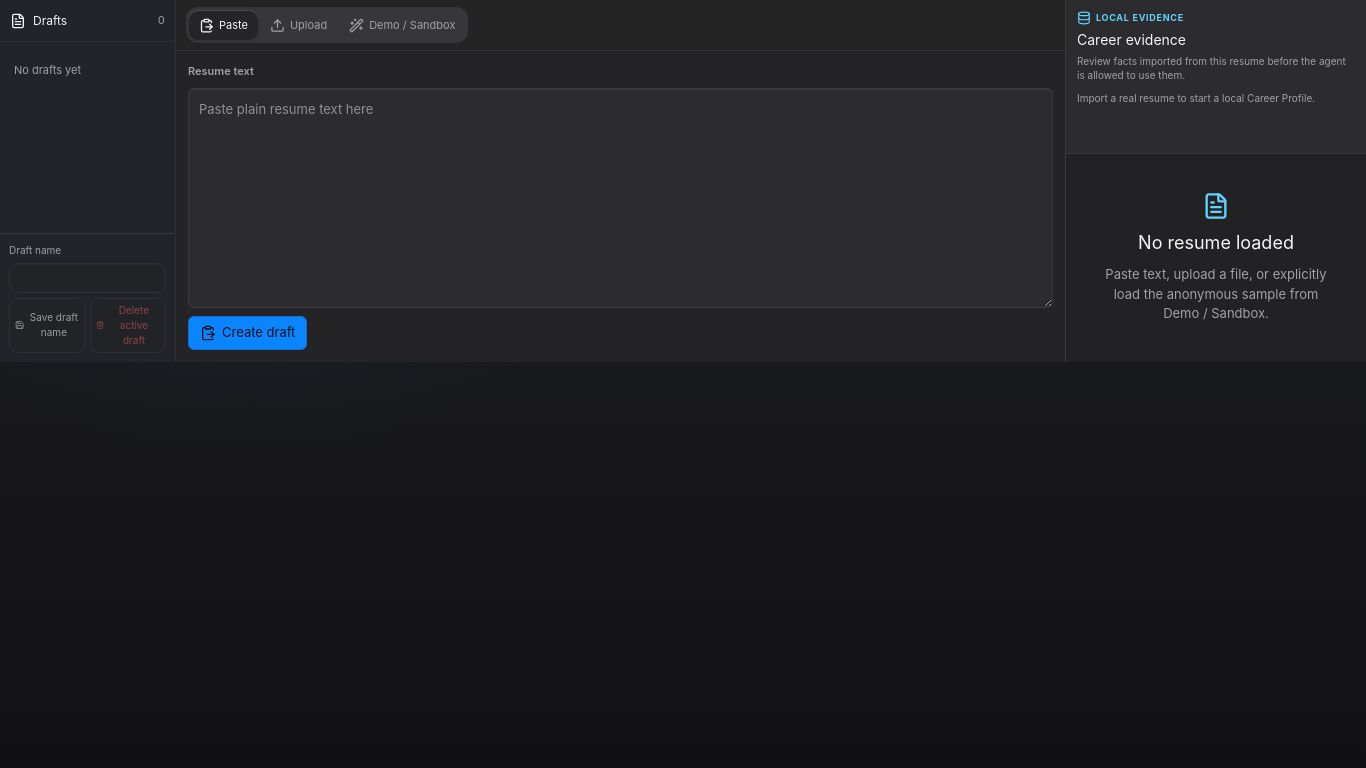
ResumeStudioApp › creates a draft from pasted text and renders a structured preview
This screenshot has width=1366, height=768.
Type "Ada resume source" into the text box labelled "Resume text" at {"x": 620, "y": 198}, box top-left (188, 88), bottom-right (1053, 308)
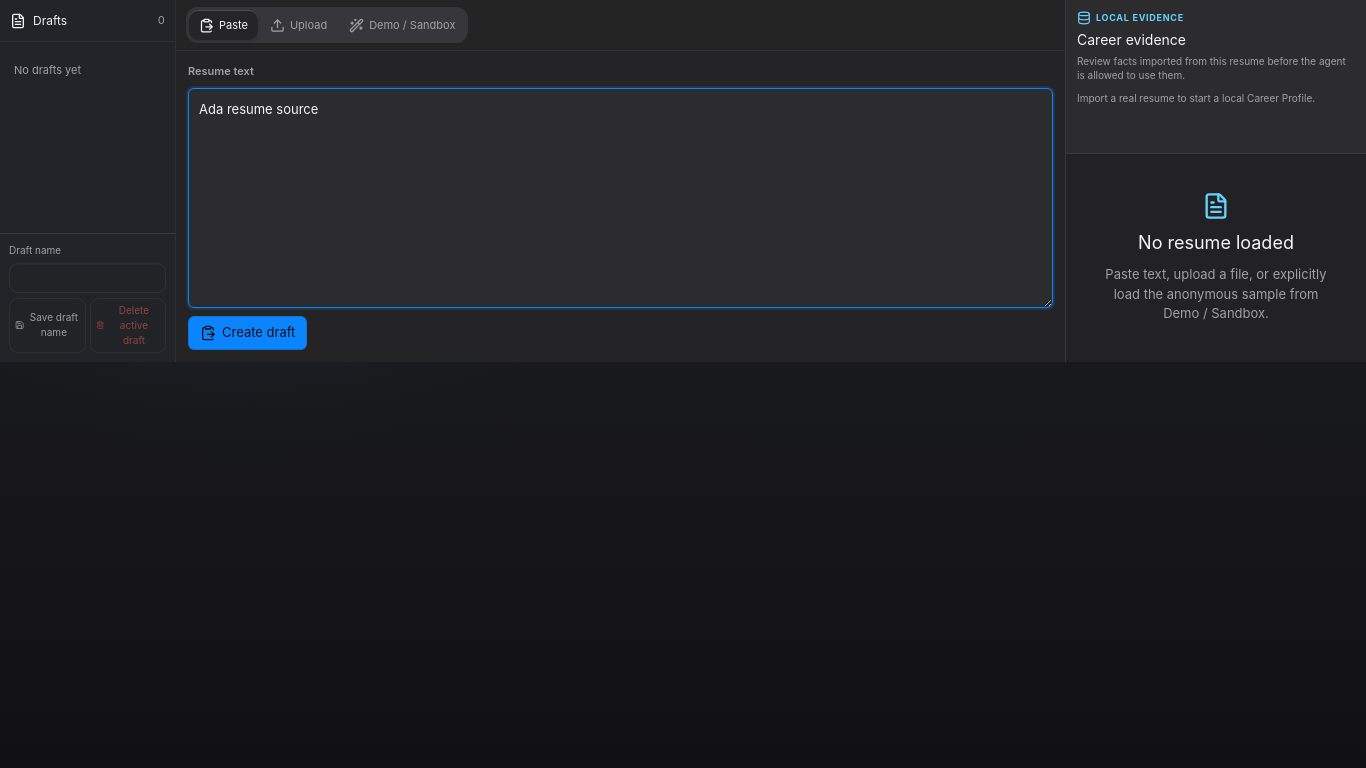
Click the button "Create draft" at {"x": 248, "y": 332}, box top-left (188, 316), bottom-right (307, 350)
(page scrolled)
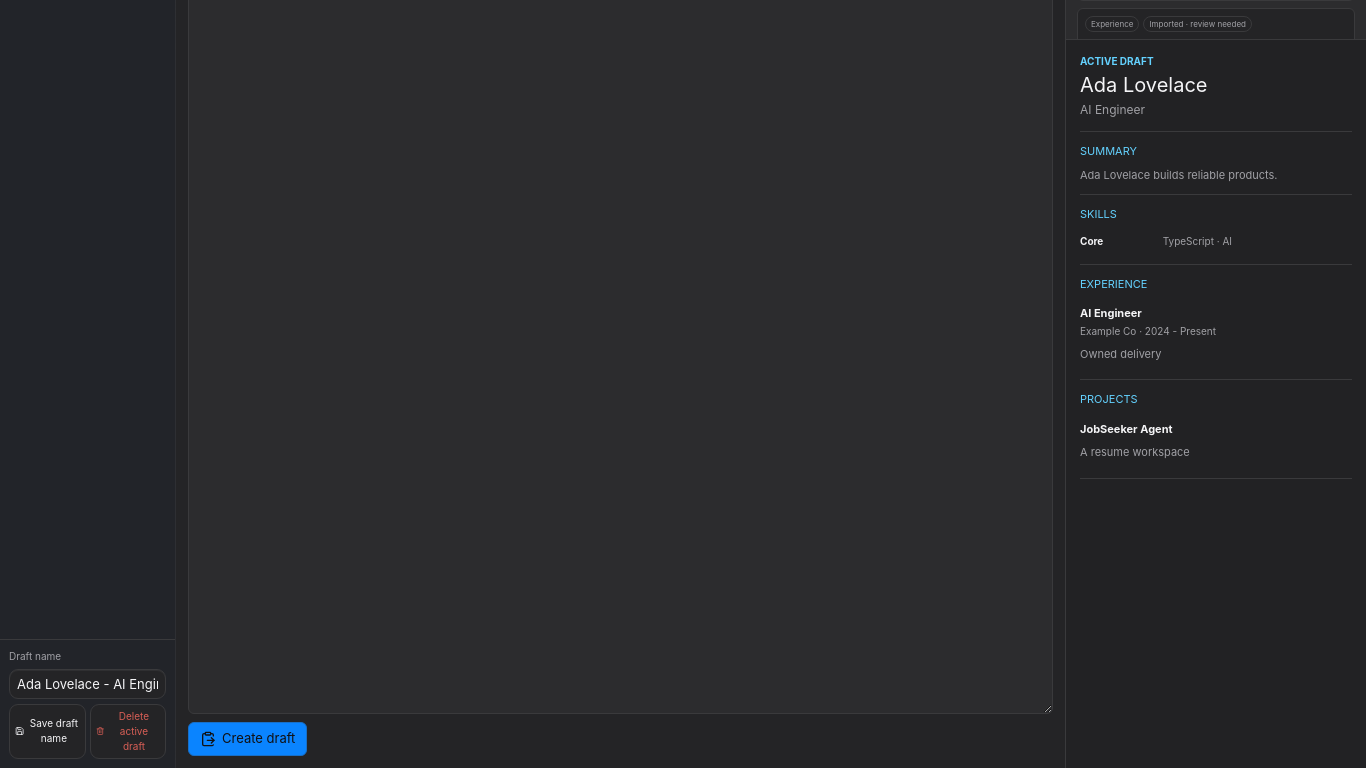
Now the heading "Ada Lovelace" is shown, box top-left (1080, 73), bottom-right (1208, 97)
Now the heading "Skills" is shown, box top-left (1080, 207), bottom-right (1117, 221)
Now the text "TypeScript · AI" is shown, box top-left (1163, 234), bottom-right (1232, 246)
